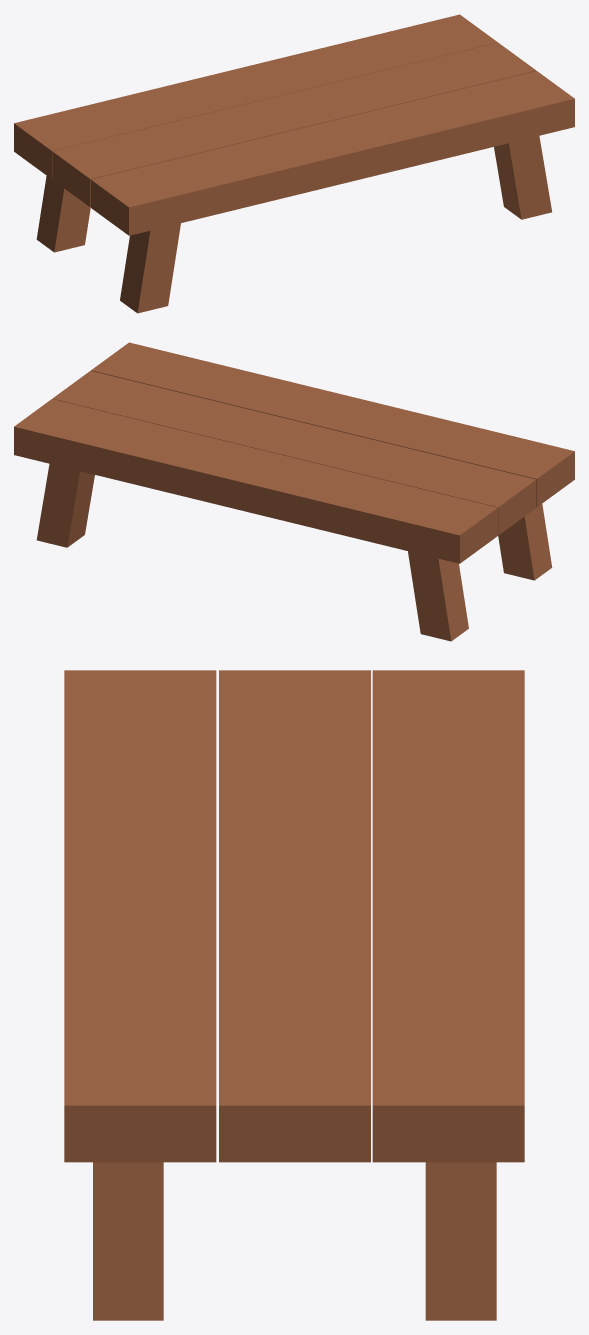
File: table_long.glb
The picture shows the model from 3 angles, top to bottom: view 1: azimuth 30°, elevation 25°; view 2: azimuth 150°, elevation 25°; view 3: azimuth 270°, elevation 25°; orthographic projection. The views are drawn at different scales.
Parts seen in each view (by area): view 1: table_long; view 2: table_long; view 3: table_long.
Part boxes in pixels (x1,y1,x2,y2): table_long: (14, 14, 574, 313); table_long: (14, 342, 574, 641); table_long: (64, 670, 524, 1320).
Bounding box in the file's own units: 1.54 × 0.3789 × 0.6873.
1 material, 1 textured.
